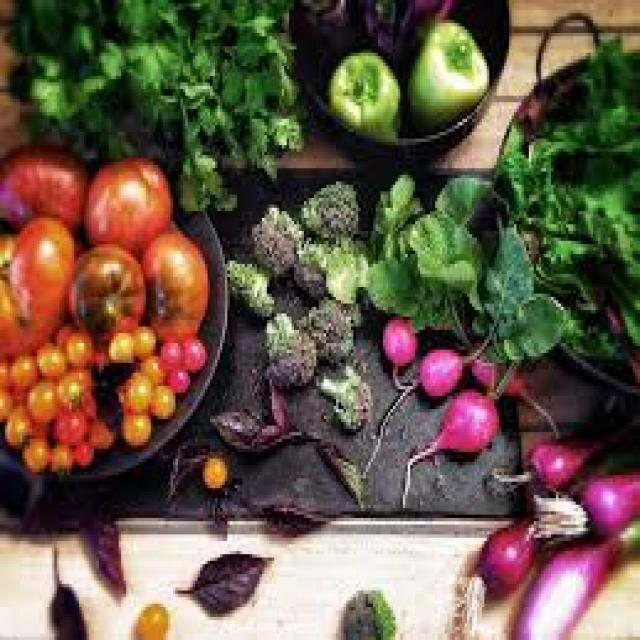organic waste: (0, 0, 306, 148), (489, 392, 638, 502), (353, 175, 458, 326), (507, 518, 638, 637), (363, 340, 457, 465), (400, 386, 494, 498), (457, 504, 536, 636), (534, 184, 638, 284), (534, 112, 638, 211), (0, 214, 74, 353), (403, 13, 487, 129), (566, 251, 637, 386), (489, 287, 566, 399), (82, 155, 168, 254), (469, 214, 538, 334), (408, 204, 487, 304), (64, 238, 146, 333), (526, 472, 638, 541), (0, 142, 86, 231), (138, 225, 205, 336), (175, 548, 272, 614), (576, 36, 638, 139), (326, 50, 398, 136), (361, 0, 452, 66), (74, 488, 126, 594), (459, 326, 534, 396), (44, 531, 86, 637), (306, 429, 364, 505), (262, 303, 314, 386), (296, 178, 361, 244), (173, 138, 230, 208), (430, 162, 497, 221), (294, 0, 356, 63), (302, 234, 366, 294), (114, 40, 178, 99), (502, 135, 551, 211), (373, 165, 425, 234), (302, 287, 354, 356), (603, 251, 637, 353), (316, 366, 371, 426), (213, 402, 284, 448), (252, 208, 297, 274), (380, 314, 418, 389), (250, 495, 328, 528), (344, 584, 391, 637), (225, 254, 269, 310), (163, 436, 210, 488), (242, 109, 277, 175), (205, 472, 240, 534), (287, 234, 321, 294), (42, 402, 84, 446), (264, 380, 299, 432), (20, 373, 59, 419), (267, 106, 304, 152), (59, 323, 92, 363), (116, 366, 146, 409), (0, 402, 27, 446), (136, 597, 165, 637), (116, 409, 148, 442), (8, 350, 34, 389), (104, 323, 131, 360), (47, 432, 74, 469), (195, 449, 222, 485), (20, 429, 47, 465), (148, 379, 173, 416), (32, 340, 59, 373), (180, 333, 202, 373), (54, 369, 76, 406), (131, 320, 153, 356), (134, 353, 158, 383), (84, 416, 111, 442), (156, 340, 180, 369), (52, 313, 74, 343), (75, 386, 96, 416), (72, 363, 92, 389), (165, 363, 188, 383), (0, 382, 12, 419), (0, 356, 7, 385)
